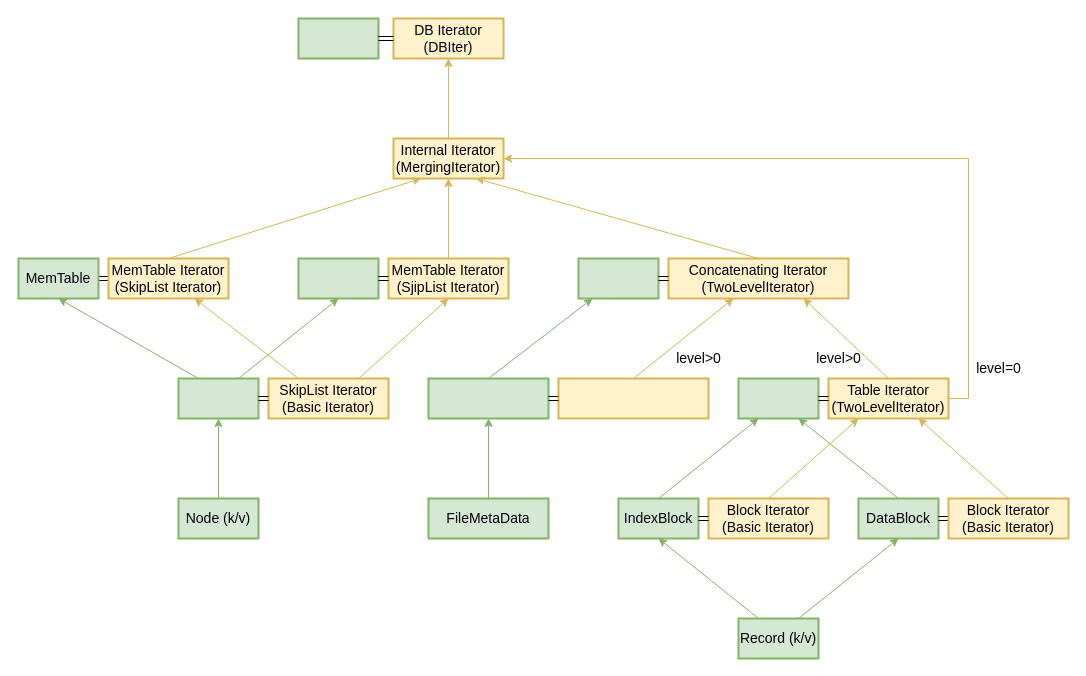
This 1086x676 diagram has some shape labels left out. Here are the shapes that lost their labels. From the top down, the centre of each, then its label:
At (x=338, y=38): "DB".
At (x=338, y=278): "Immutable MemTable".
At (x=618, y=278): "Version".
At (x=218, y=398): "SkipList".
At (x=488, y=398): "FileMetaData*".
At (x=633, y=398): "Version Iterator (LevelFileNumIterator)".
At (x=778, y=398): "Table (SSTable)".
